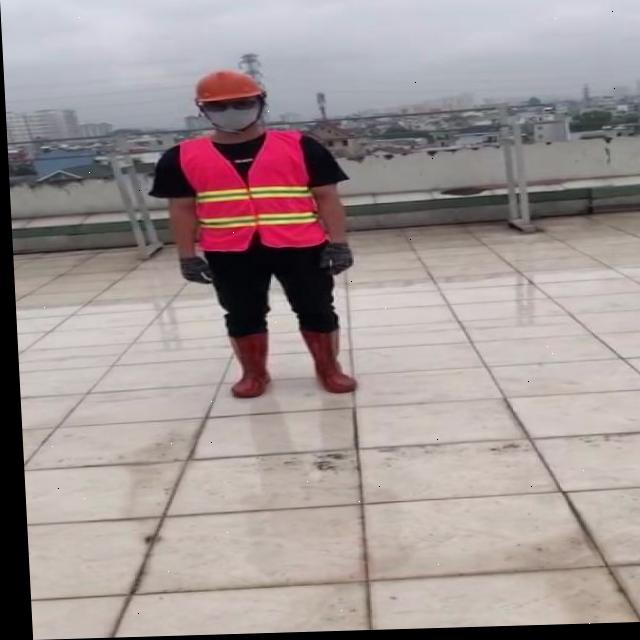Gloves: (314, 243, 350, 277), (175, 257, 210, 286)
Safety-Boot: (296, 326, 352, 396), (224, 331, 267, 399)
Safety-Vest: (175, 129, 325, 254)
